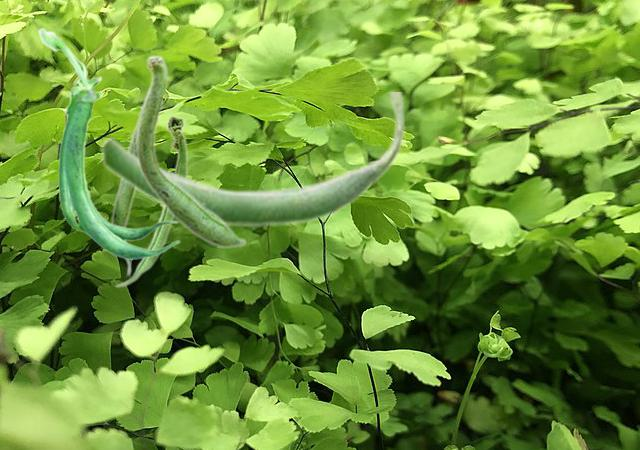french_bean: (100, 92, 405, 228), (37, 27, 179, 259), (135, 57, 246, 248), (114, 114, 187, 287), (110, 54, 166, 277)
